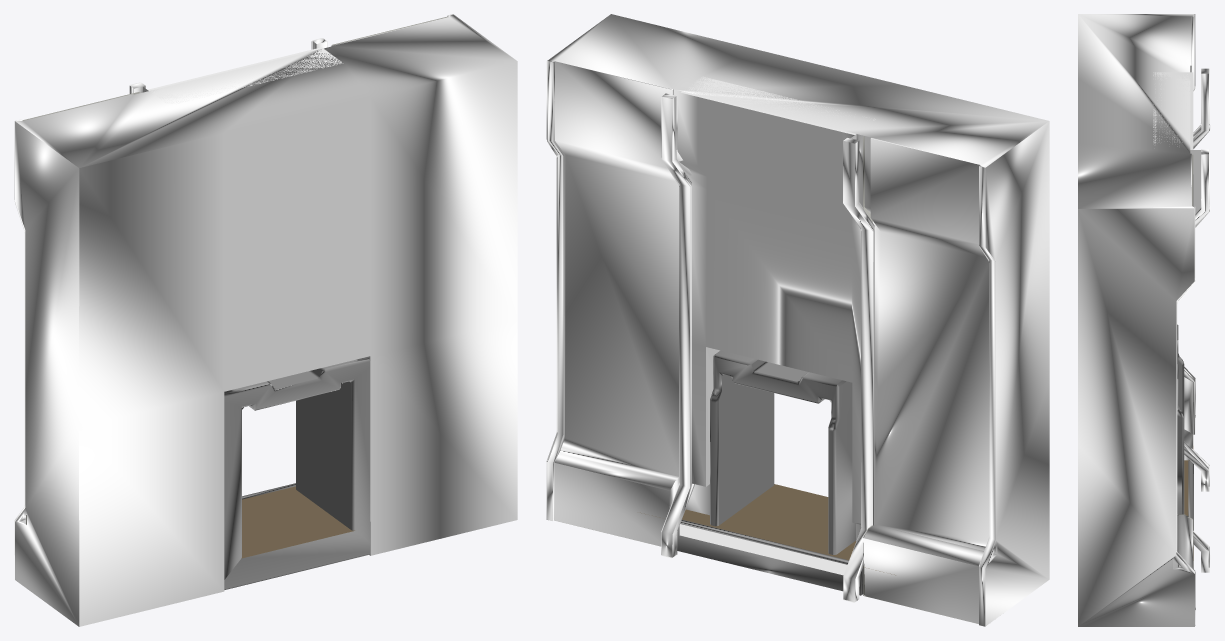
Rendered from roomsm_b_wall_straight_vent_bottom_04x01x04_a.glb.
3 views of the same model, side by side, from view 1: azimuth 30°, elevation 25°; view 2: azimuth 150°, elevation 25°; view 3: azimuth 270°, elevation 25° (orthographic). The views are drawn at different scales.
Bounding box in the file's own units: 4 × 4 × 1.15.
